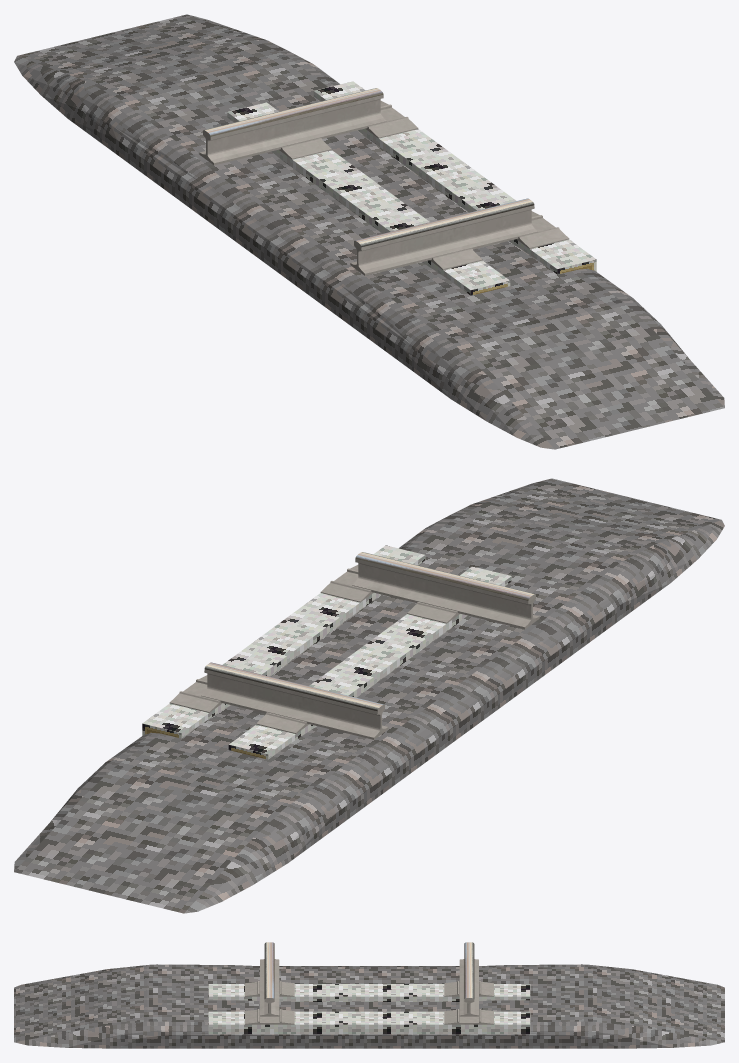
Rendered from birch_ballast_wide.obj.
3 views of the same model, one above another, from view 1: azimuth 30°, elevation 25°; view 2: azimuth 150°, elevation 25°; view 3: azimuth 270°, elevation 25° (orthographic). The views are drawn at different scales.
Parts seen in each view (by area): view 1: RAIL_BASE.001_Plane.004, RAIL_BASE_Plane.003, RAIL_RIGHT_Cube.000, RAIL_LEFT_Cube.001, RAIL_BASE.002_Plane.001; view 2: RAIL_BASE.001_Plane.004, RAIL_BASE_Plane.003, RAIL_LEFT_Cube.001, RAIL_RIGHT_Cube.000, RAIL_BASE.002_Plane.001; view 3: RAIL_BASE.001_Plane.004, RAIL_BASE_Plane.003, RAIL_BASE.002_Plane.001, RAIL_LEFT_Cube.001, RAIL_RIGHT_Cube.000.
Boxes of the visible parts, box(x1,y1,x2,y2) form: RAIL_BASE.001_Plane.004: box(14, 14, 724, 449); RAIL_BASE_Plane.003: box(227, 81, 596, 295); RAIL_RIGHT_Cube.000: box(199, 88, 386, 165); RAIL_LEFT_Cube.001: box(350, 198, 537, 275); RAIL_BASE.002_Plane.001: box(279, 101, 569, 269); RAIL_BASE.001_Plane.004: box(14, 478, 724, 913); RAIL_BASE_Plane.003: box(142, 545, 511, 759); RAIL_LEFT_Cube.001: box(352, 552, 539, 629); RAIL_RIGHT_Cube.000: box(201, 662, 388, 739); RAIL_BASE.002_Plane.001: box(169, 565, 459, 733); RAIL_BASE.001_Plane.004: box(14, 964, 724, 1048); RAIL_BASE_Plane.003: box(208, 984, 530, 1034); RAIL_BASE.002_Plane.001: box(245, 981, 493, 1024); RAIL_LEFT_Cube.001: box(260, 942, 279, 1016); RAIL_RIGHT_Cube.000: box(459, 942, 478, 1016).
Size of the model in its own units: 1.25 by 0.3683 by 5.39.
Materials: 5 (5 with a texture image).
